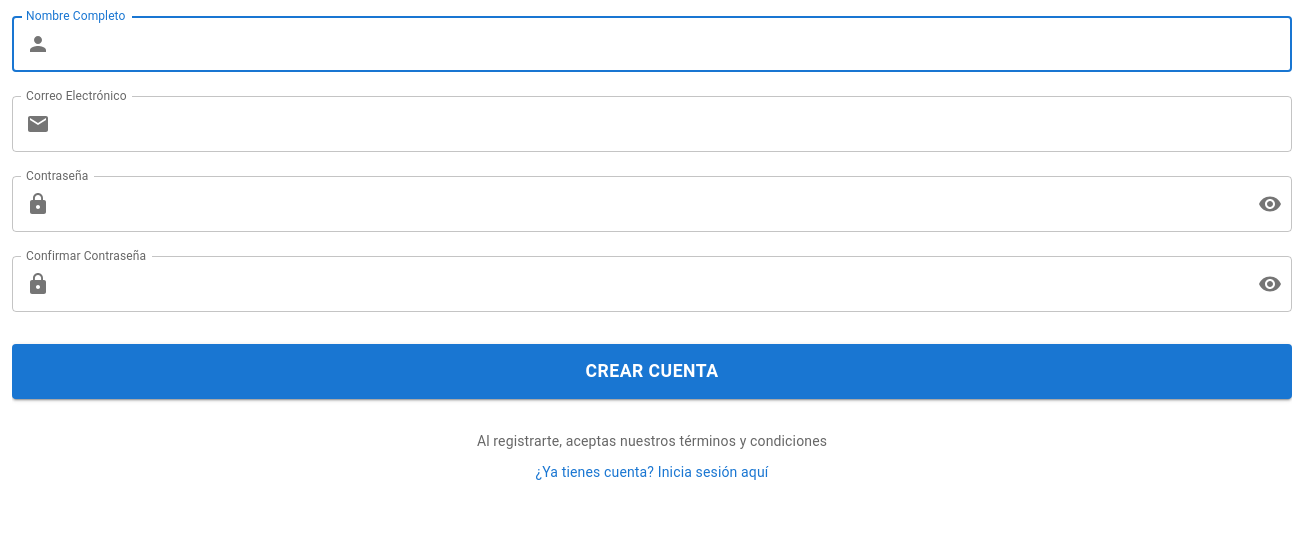
RegisterForm › Password Strength Indicator › shows stronger password indicator for complex passwords
The image size is (1304, 542).
Type "StrongPass123!" into the password field labelled "Contraseña".
click(650, 204); type("StrongPass123!")  # box [58,176,1242,232]
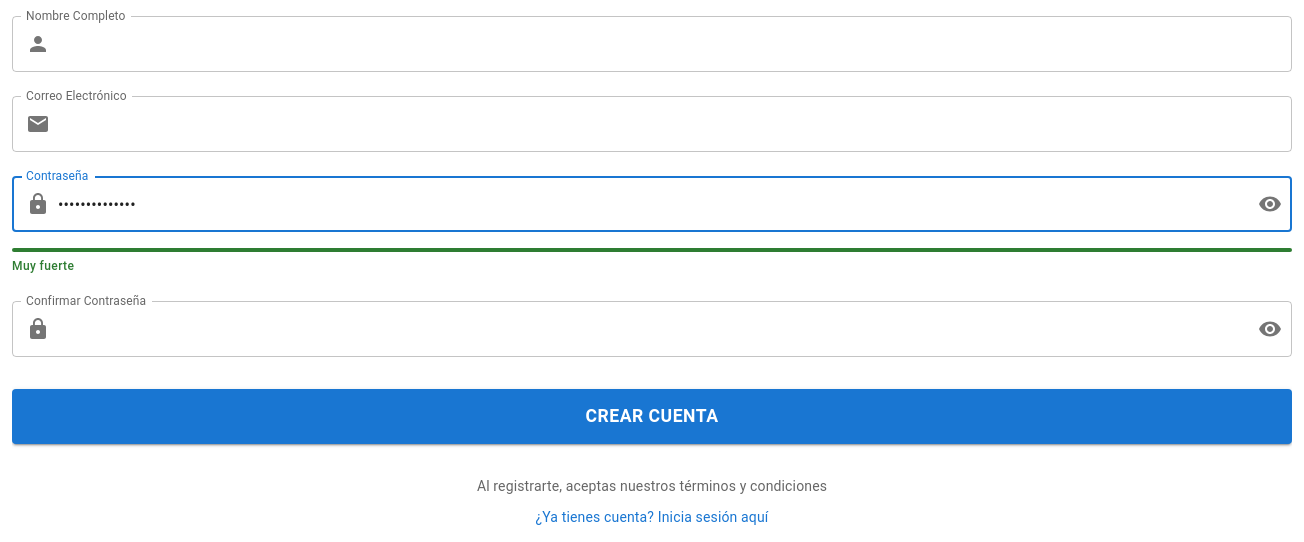
Expected: the text "Muy fuerte" is shown, [12,259,74,273]
